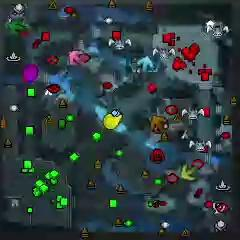p3: (23, 63, 40, 84)
p4: (104, 112, 123, 130)
x1: (69, 49, 83, 66)
x2: (180, 162, 198, 182)
x3: (138, 55, 154, 74)
x4: (7, 17, 28, 35)
x5: (150, 116, 168, 134)
